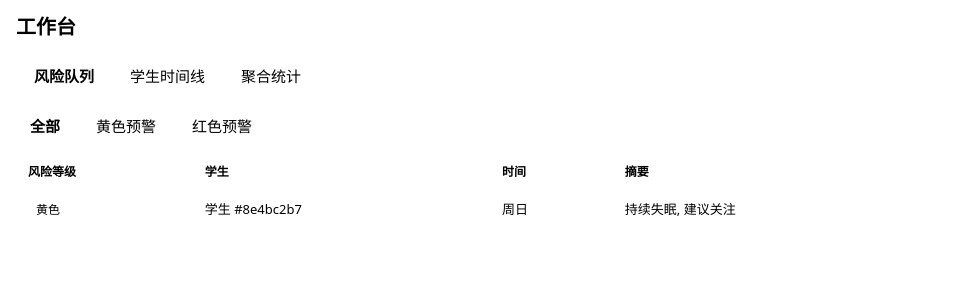
Scenario: WorkbenchView (咨询员工作台) › 脱敏短码学生: 行展开就地降级提示, 不调时间线端点 (端点只收 UUID, 实测短码 400)
The width and height of the screenshot is (961, 298).
Check: the text "学生 #8e4bc2b7" is shown, box [193, 190, 490, 229]
Click the text "学生 #8e4bc2b7" at (253, 209), box [16, 190, 944, 229]
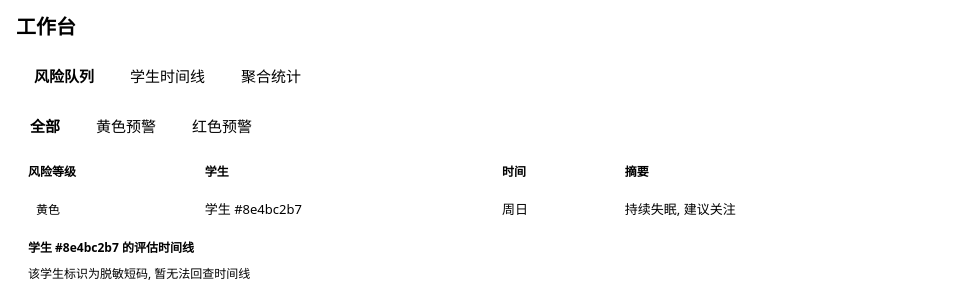
Check: the text "该学生标识为脱敏短码, 暂无法回查时间线" is shown, box [28, 265, 250, 282]
